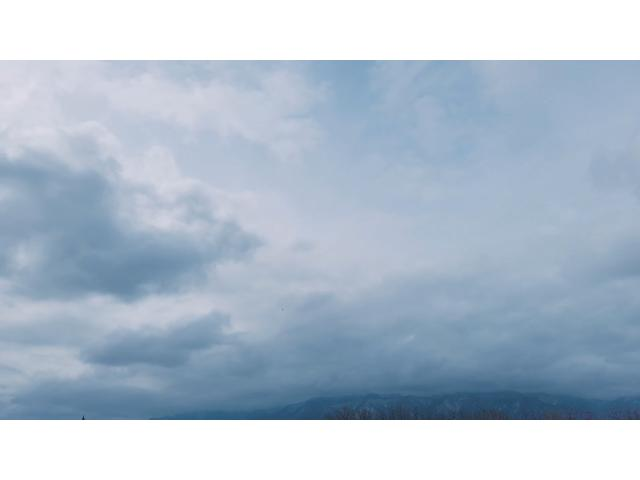Anti-Drone: (278, 307, 286, 315)
